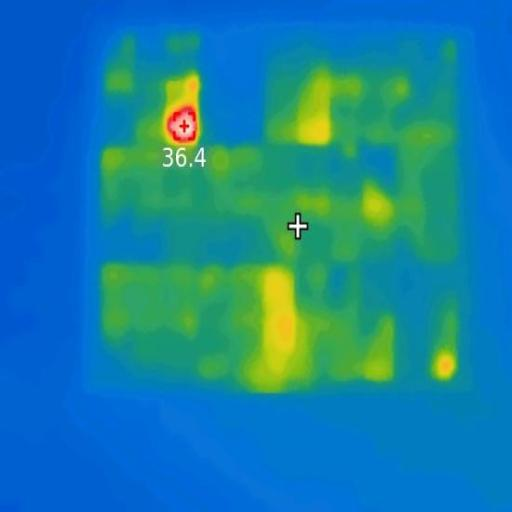hotspot: (167, 104, 202, 146)
